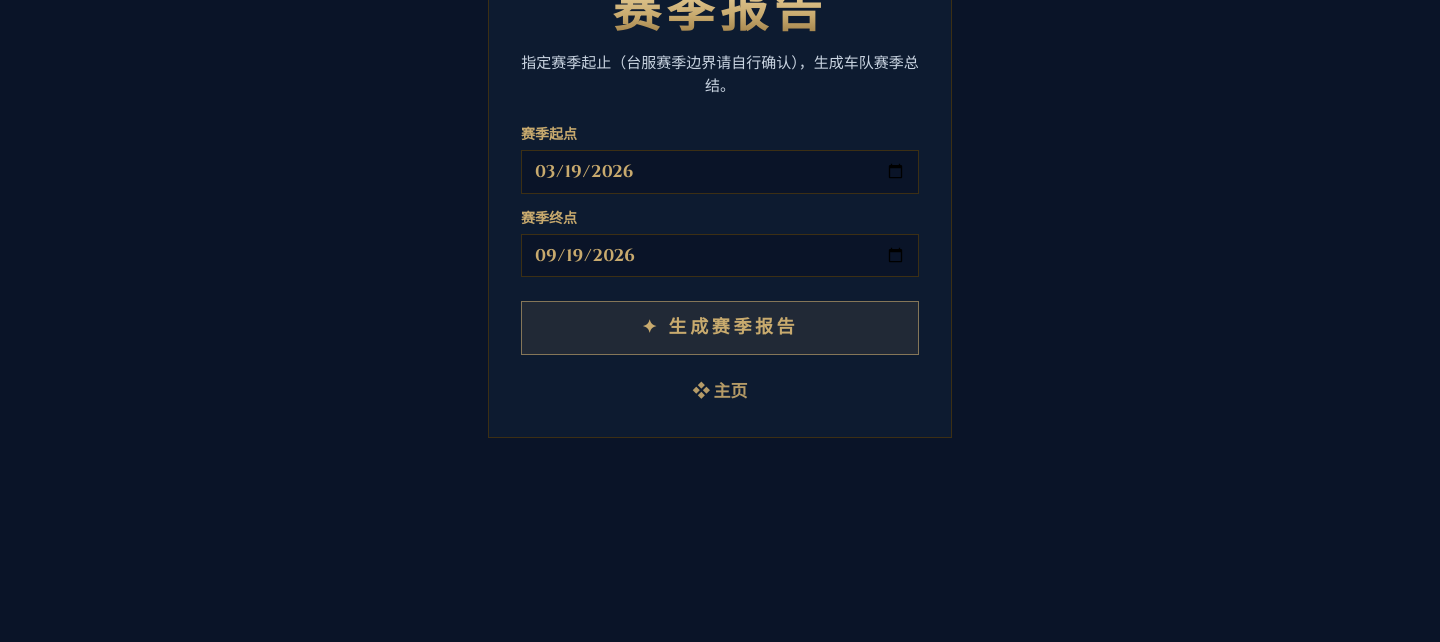
Test: SeasonReportView › 报告主体：总览/版本曲线/高光/英雄池漂移渲染
Click the button with test id "season-generate" at (720, 328), box [521,301,919,355]
(page scrolled)
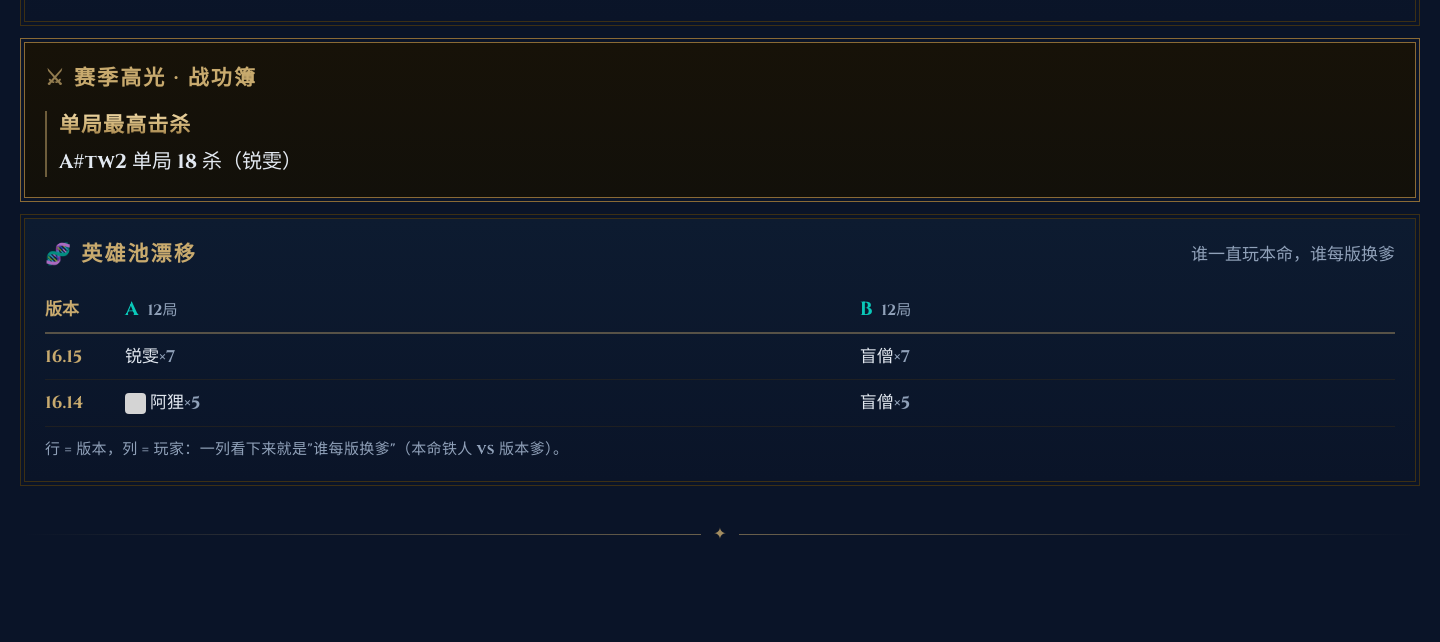
Expected: the element with test id "season-highlights" shows "18 杀", [59,148,302,175]
Expected: the row with test id "drift-row-16.14" shows "阿狸×5", [45,380,1395,426]
Expected: the row with test id "drift-row-16.14" shows "盲僧×5", [45,380,1395,426]
